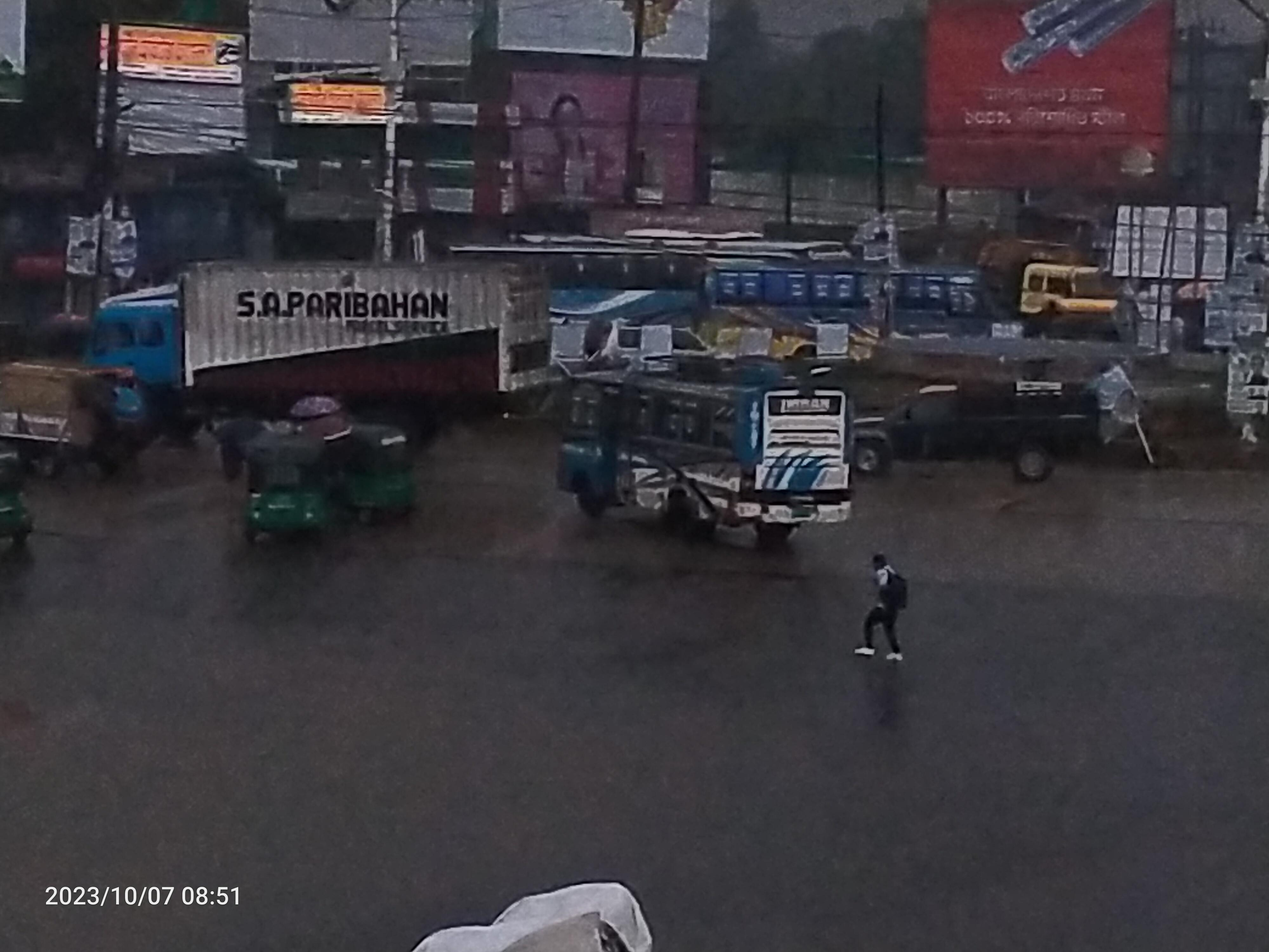Bus: (529, 334, 867, 601), (656, 222, 1020, 376), (435, 190, 730, 374)
Car: (840, 350, 1127, 523)
Truck: (50, 226, 568, 444), (980, 223, 1159, 379)
